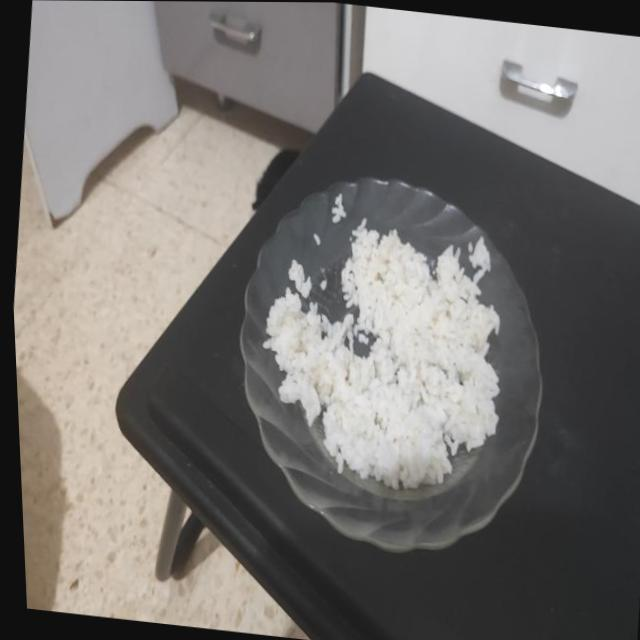nasi_putih: (266, 218, 499, 489)
